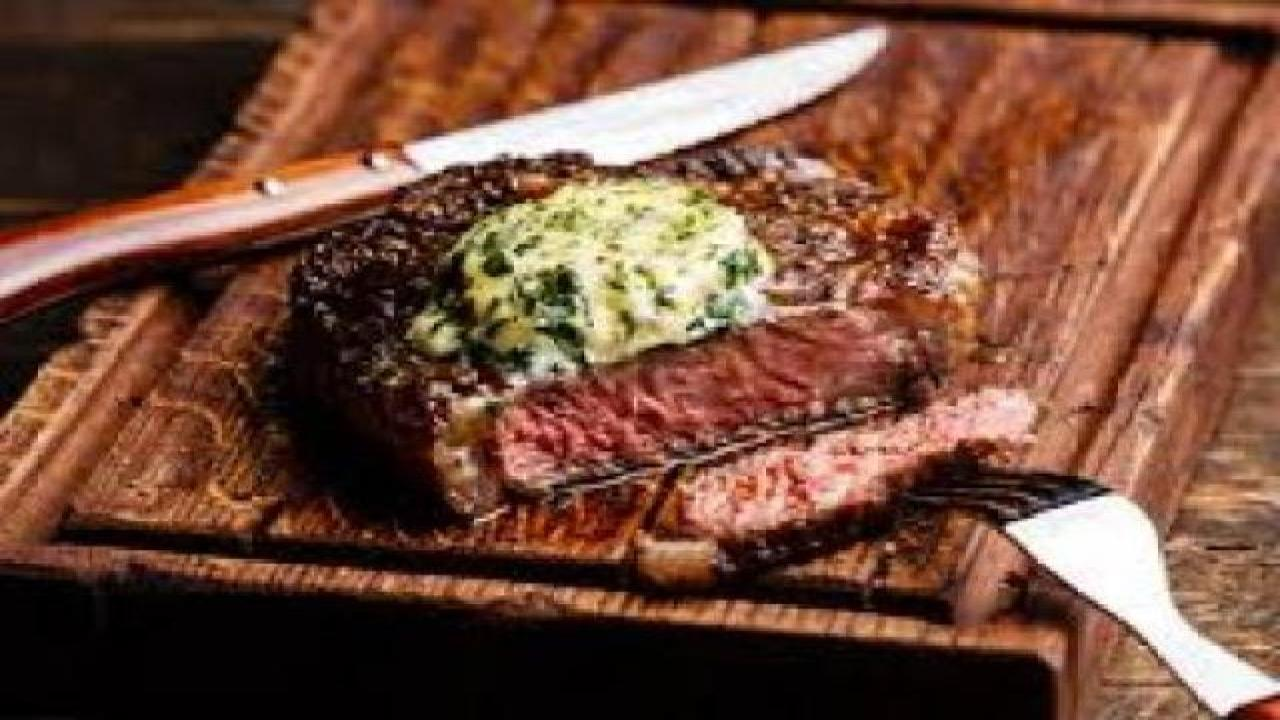Carne: (240, 113, 1048, 589)
